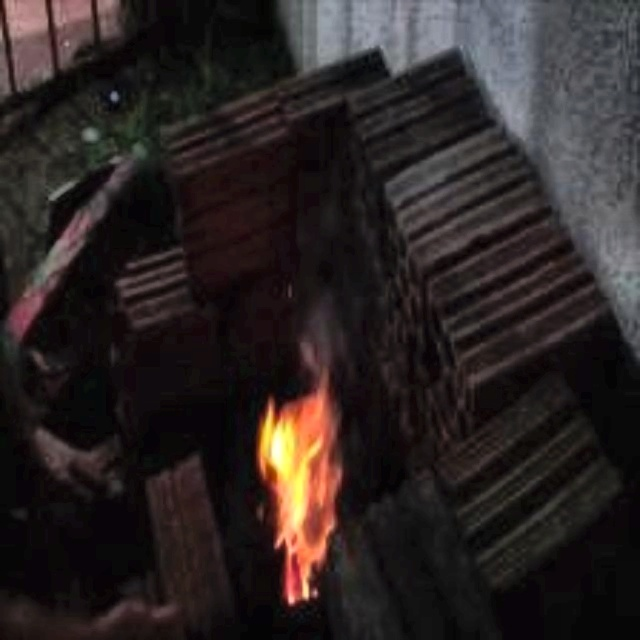fire: (243, 372, 401, 623)
